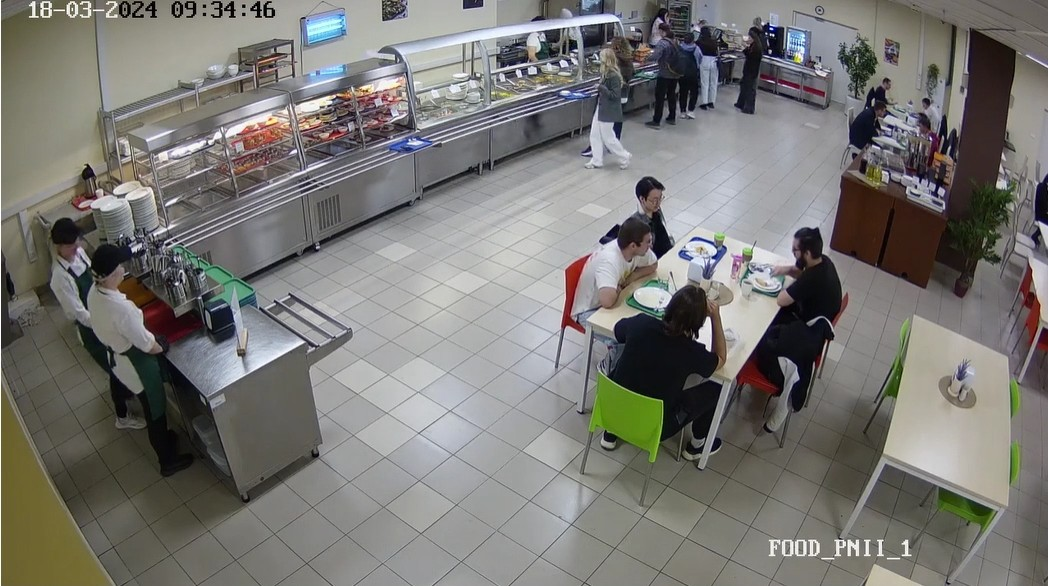Na_Kasse: (677, 30, 701, 113), (701, 26, 722, 115), (736, 33, 759, 110), (750, 14, 765, 35)
Personal: (83, 249, 218, 480), (49, 212, 151, 435), (521, 15, 545, 73), (555, 3, 583, 46), (680, 7, 711, 27), (650, 1, 671, 22)
Vybiraet: (583, 45, 624, 171), (648, 24, 675, 123), (611, 38, 640, 128)
Za_Stolom: (582, 287, 720, 475), (554, 212, 656, 369), (762, 221, 842, 337), (835, 101, 883, 167), (638, 166, 679, 230), (1021, 158, 1048, 252), (904, 119, 949, 158), (872, 68, 899, 102), (913, 89, 932, 113)
